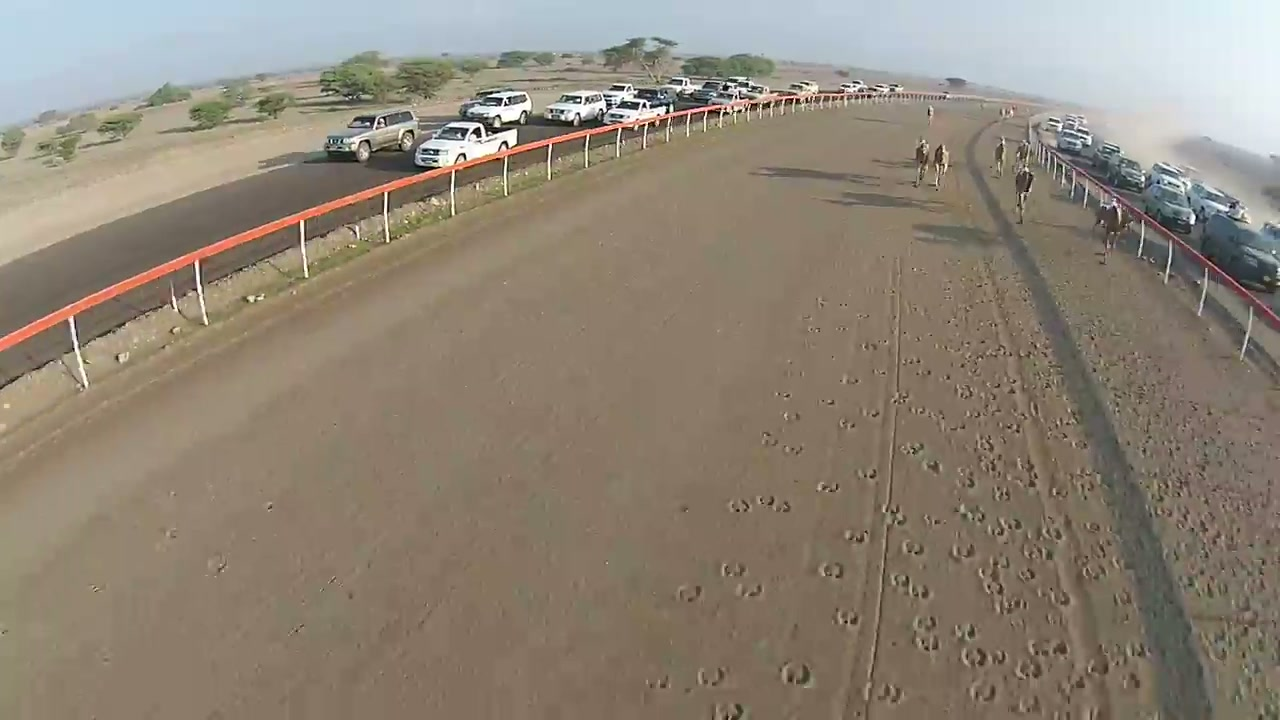animal_foot_print: (837, 276, 1077, 716), (651, 313, 879, 717), (957, 258, 1143, 716), (686, 310, 883, 716), (884, 282, 1056, 696), (735, 463, 878, 716), (890, 502, 1031, 697), (911, 614, 940, 654), (726, 495, 790, 513), (780, 661, 813, 687), (976, 555, 1011, 579), (1037, 587, 1073, 608), (1058, 671, 1087, 697), (994, 594, 1027, 615), (960, 645, 990, 668), (1035, 638, 1069, 658), (874, 682, 904, 704), (1010, 696, 1042, 716), (1014, 658, 1043, 680), (697, 666, 727, 687), (1022, 540, 1051, 561), (956, 503, 986, 523), (712, 702, 747, 719), (907, 406, 944, 422), (986, 521, 1012, 543), (882, 504, 906, 526), (950, 540, 975, 561), (832, 609, 859, 628), (907, 581, 932, 601), (675, 584, 702, 602), (915, 633, 939, 653), (818, 561, 844, 579), (1086, 655, 1109, 675), (954, 470, 977, 490), (953, 622, 976, 642), (735, 582, 763, 598), (888, 573, 911, 592), (843, 529, 869, 545), (1121, 671, 1142, 690), (902, 538, 924, 556), (913, 615, 936, 632), (1079, 564, 1105, 579), (721, 562, 746, 577), (727, 498, 751, 513), (646, 675, 670, 689), (921, 513, 944, 527), (1113, 589, 1133, 605), (816, 480, 840, 493), (900, 442, 924, 455), (922, 458, 941, 474), (992, 486, 1011, 502), (858, 466, 879, 480), (990, 649, 1008, 665), (782, 444, 804, 457), (1049, 484, 1068, 499), (761, 431, 779, 446), (837, 417, 856, 431), (755, 494, 775, 507), (839, 372, 860, 384), (770, 500, 791, 512), (1081, 521, 1101, 533), (889, 392, 909, 404), (783, 367, 804, 378), (782, 410, 800, 422), (860, 341, 879, 351), (863, 408, 881, 418), (815, 296, 828, 309), (915, 368, 932, 377), (819, 397, 836, 406), (902, 357, 921, 365), (775, 391, 791, 400), (800, 314, 814, 323), (836, 325, 849, 333), (856, 312, 870, 319), (806, 326, 820, 333), (838, 301, 849, 309)
